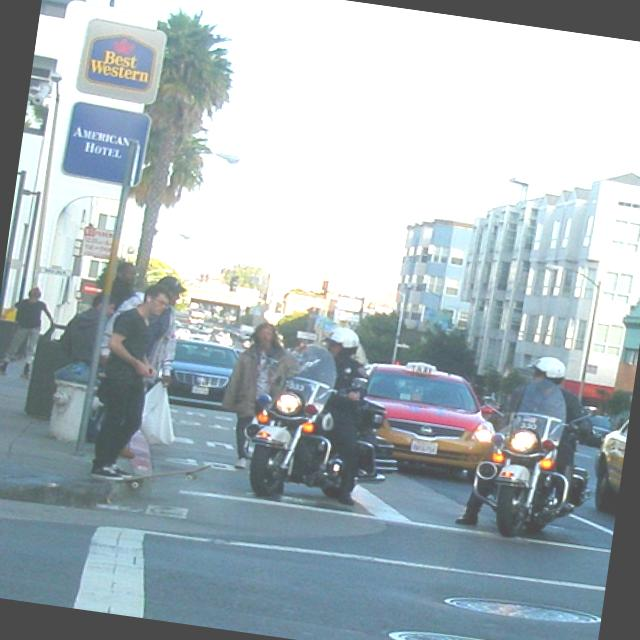Vehicle: (238, 334, 406, 516), (467, 371, 604, 548), (358, 356, 502, 468), (586, 405, 631, 515), (167, 338, 243, 402), (574, 410, 616, 450)
